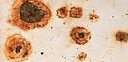Corrosion: (7, 1, 52, 32), (3, 33, 34, 62), (69, 26, 92, 46), (68, 5, 83, 19), (55, 5, 68, 19), (114, 29, 128, 42), (76, 51, 88, 62), (88, 13, 100, 23)
